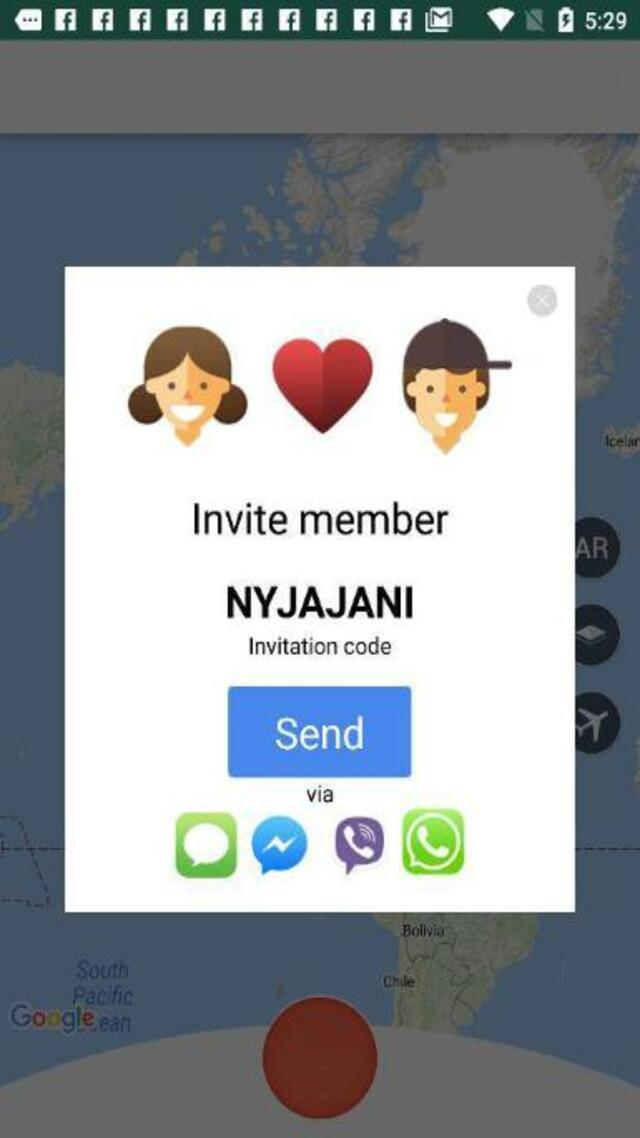Icon: (403, 807, 465, 875), (175, 812, 237, 878), (252, 814, 307, 874), (335, 817, 383, 872), (526, 286, 558, 316)
Image: (127, 319, 511, 456)
Text: (193, 500, 452, 534), (226, 584, 412, 618), (270, 711, 370, 756), (248, 635, 390, 656), (307, 785, 335, 801)
TextButton: (226, 686, 412, 776)
